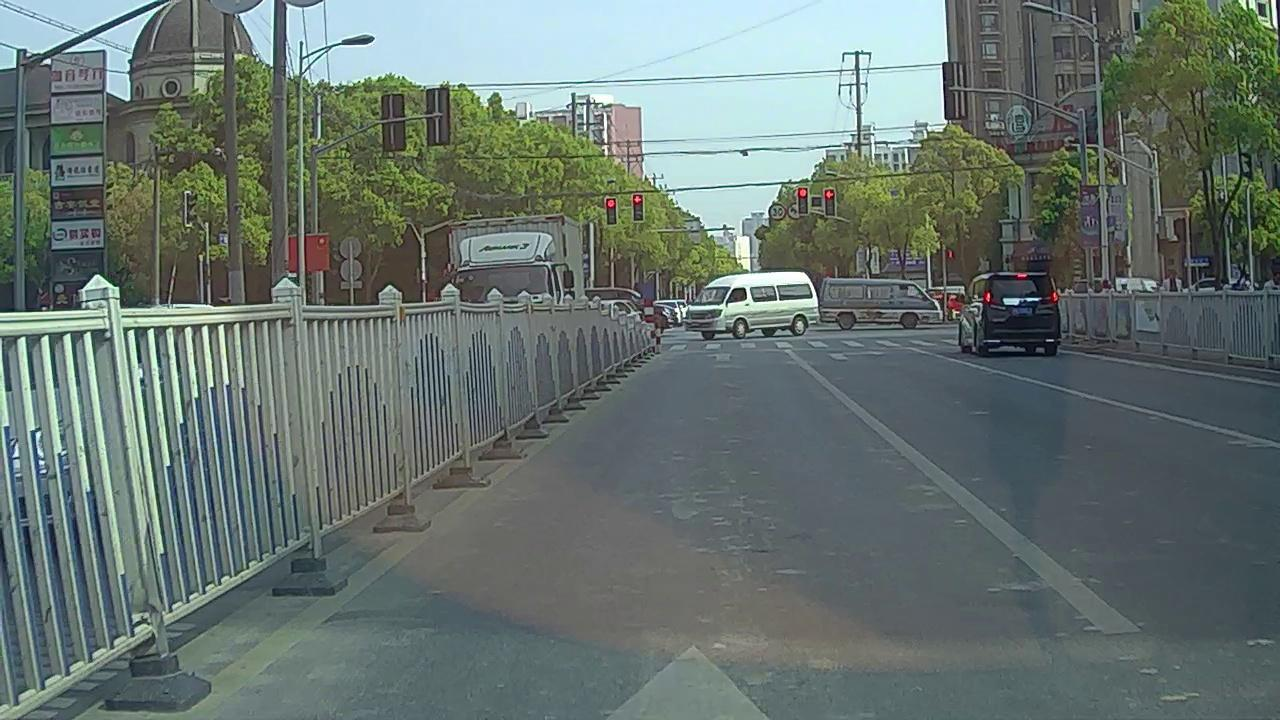traffic_light: (823, 188, 835, 216), (798, 186, 809, 215), (606, 198, 617, 224), (632, 195, 643, 220)
